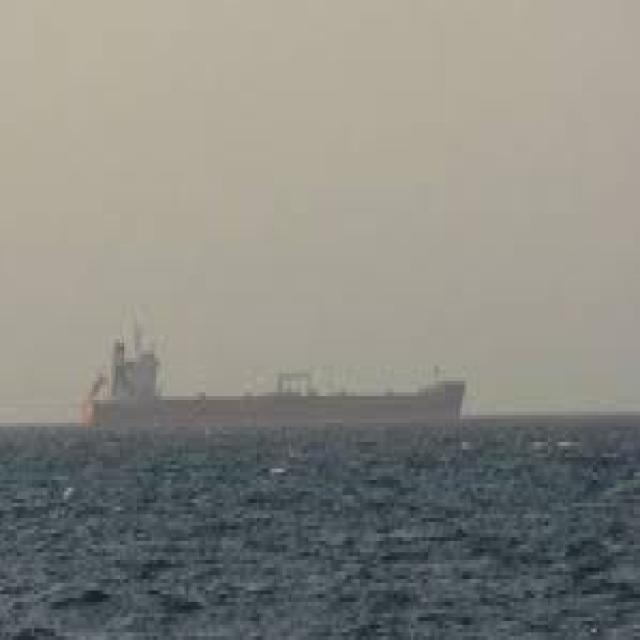cargoship: (81, 317, 473, 433)
